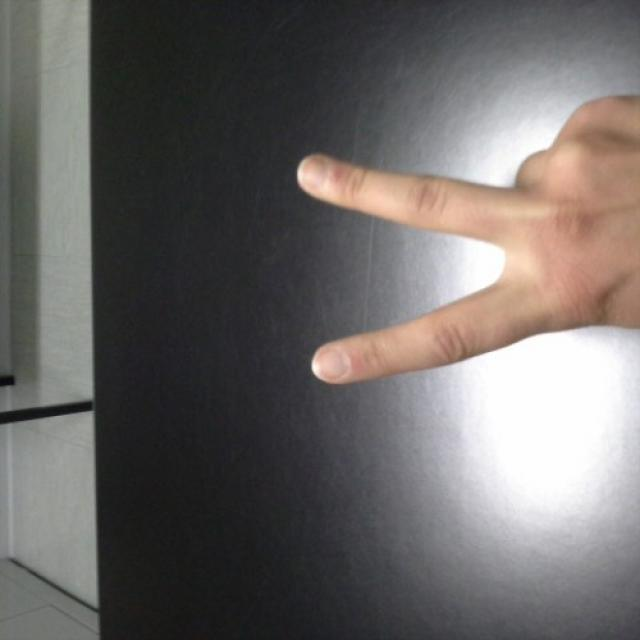scissors: (295, 92, 640, 385)
